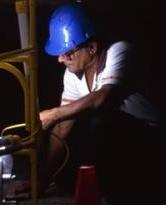hard-hat: (43, 0, 97, 56)
